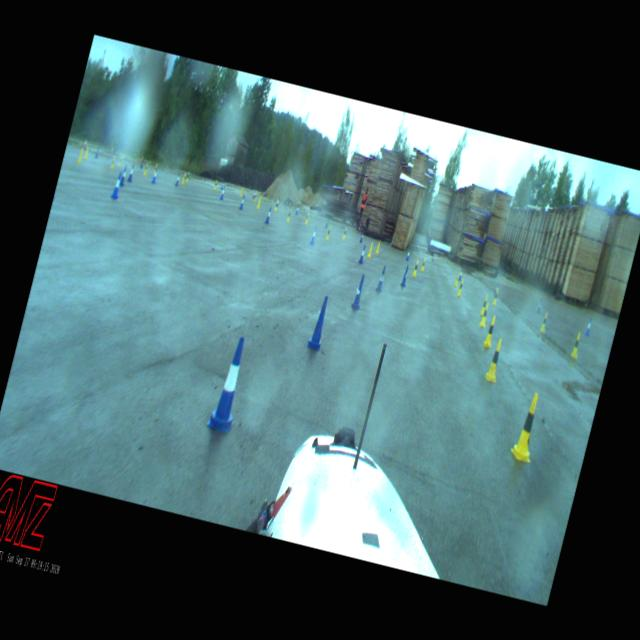blue_cone: (205, 334, 254, 434), (306, 294, 332, 350), (350, 273, 368, 310), (110, 170, 124, 200), (375, 265, 387, 291), (119, 165, 129, 188), (400, 264, 410, 286), (126, 163, 136, 183), (357, 244, 367, 264), (264, 206, 273, 224), (584, 316, 592, 336), (310, 225, 318, 245), (238, 194, 246, 210), (151, 168, 159, 184), (536, 298, 544, 314), (219, 184, 226, 200), (174, 172, 181, 186), (457, 268, 464, 280), (358, 230, 364, 243), (493, 283, 499, 296), (405, 249, 411, 261), (94, 148, 100, 158), (295, 203, 299, 214), (220, 181, 224, 190), (252, 190, 256, 199), (140, 160, 144, 169)
yellow_cone: (508, 389, 547, 464), (483, 337, 506, 382), (482, 314, 499, 348), (570, 330, 583, 358), (478, 301, 491, 327), (538, 312, 550, 334), (456, 278, 465, 298), (479, 294, 488, 314), (366, 241, 374, 258), (76, 146, 84, 163), (452, 271, 460, 287), (324, 224, 332, 240), (412, 260, 419, 276), (492, 288, 499, 304), (374, 240, 382, 254), (110, 154, 116, 170), (255, 195, 262, 208), (419, 258, 426, 271), (286, 208, 292, 222), (342, 227, 348, 240), (143, 162, 149, 175), (180, 172, 186, 185), (84, 146, 90, 158), (213, 178, 218, 190), (304, 213, 309, 224), (118, 156, 123, 167), (153, 162, 157, 174), (186, 171, 190, 182), (274, 200, 278, 210), (253, 191, 257, 201), (240, 186, 243, 197)
